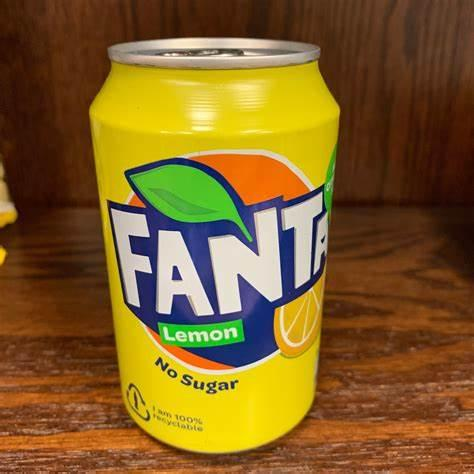metal: (90, 38, 340, 454)
